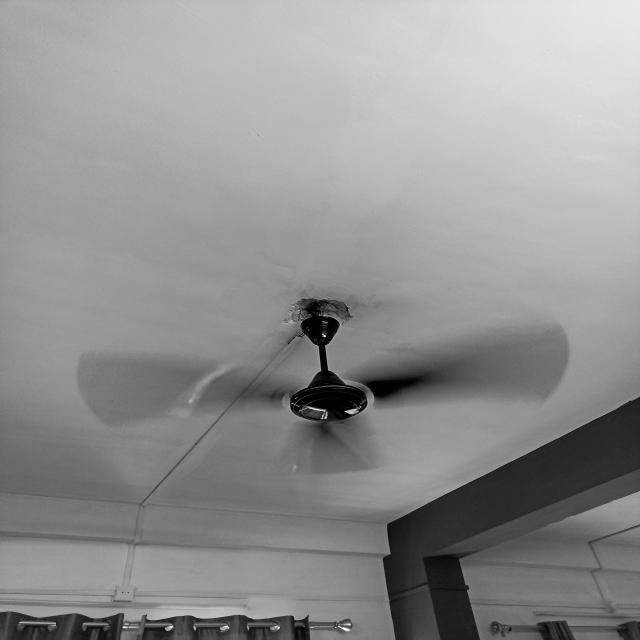fan: (75, 296, 570, 506)
light: (285, 298, 371, 424)
